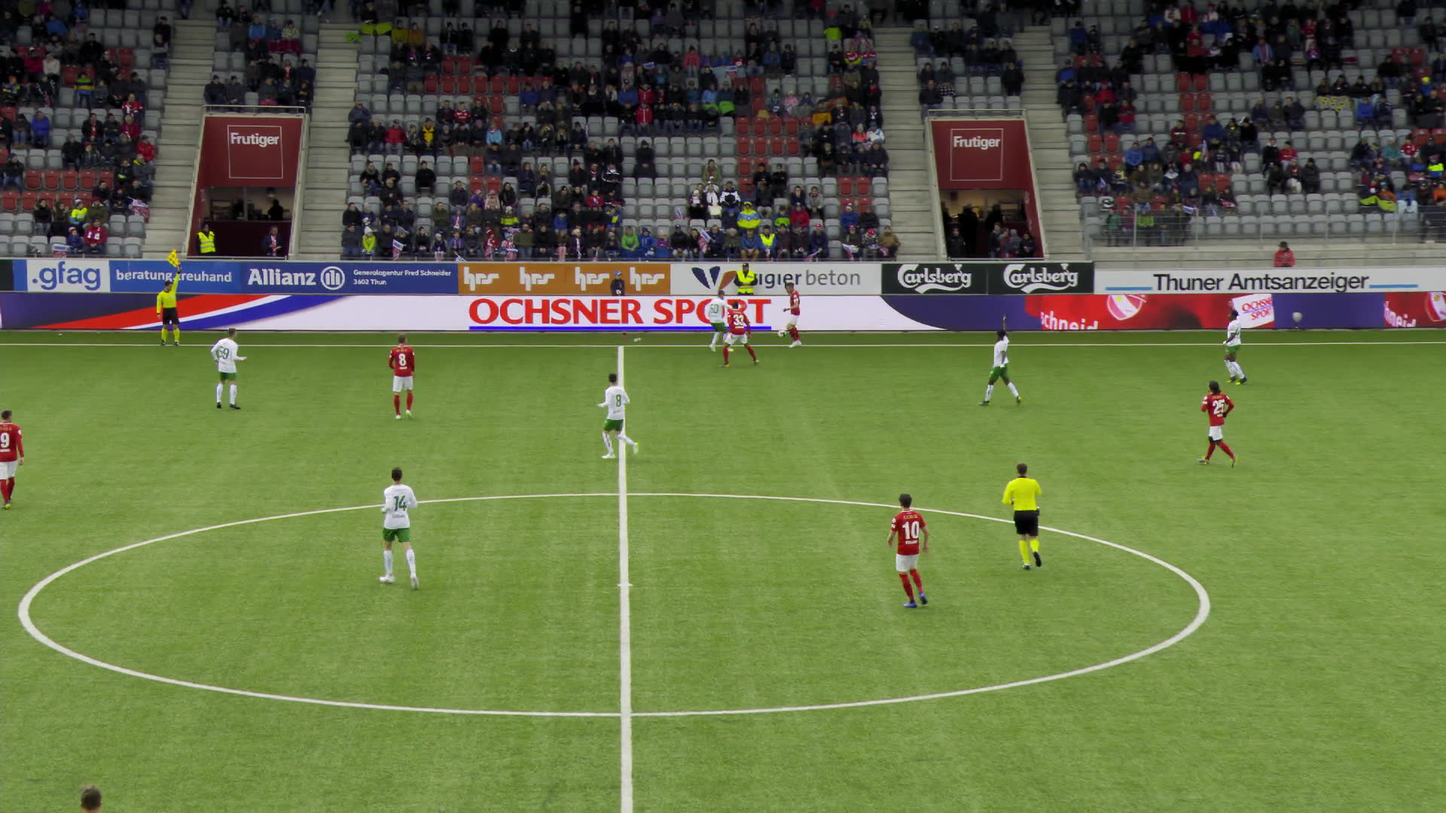ball: (777, 329, 786, 340)
player: (887, 492, 936, 608), (376, 468, 422, 586), (596, 369, 639, 458), (983, 313, 1021, 407), (1197, 381, 1238, 468), (210, 327, 247, 410), (1217, 300, 1252, 384), (386, 333, 416, 419), (719, 300, 757, 367), (0, 409, 25, 508), (702, 290, 734, 352), (782, 280, 805, 346), (76, 780, 116, 812)
referee: (1000, 459, 1041, 571), (154, 247, 181, 346)
